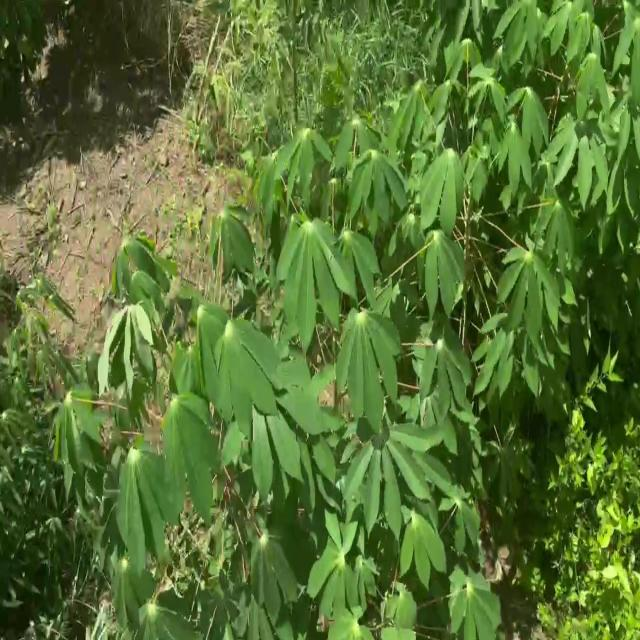Maleza: (556, 425, 640, 640)
Mosca: (265, 559, 281, 577), (345, 492, 361, 509), (181, 469, 197, 485), (181, 488, 194, 506), (325, 250, 338, 268), (302, 166, 314, 180)
